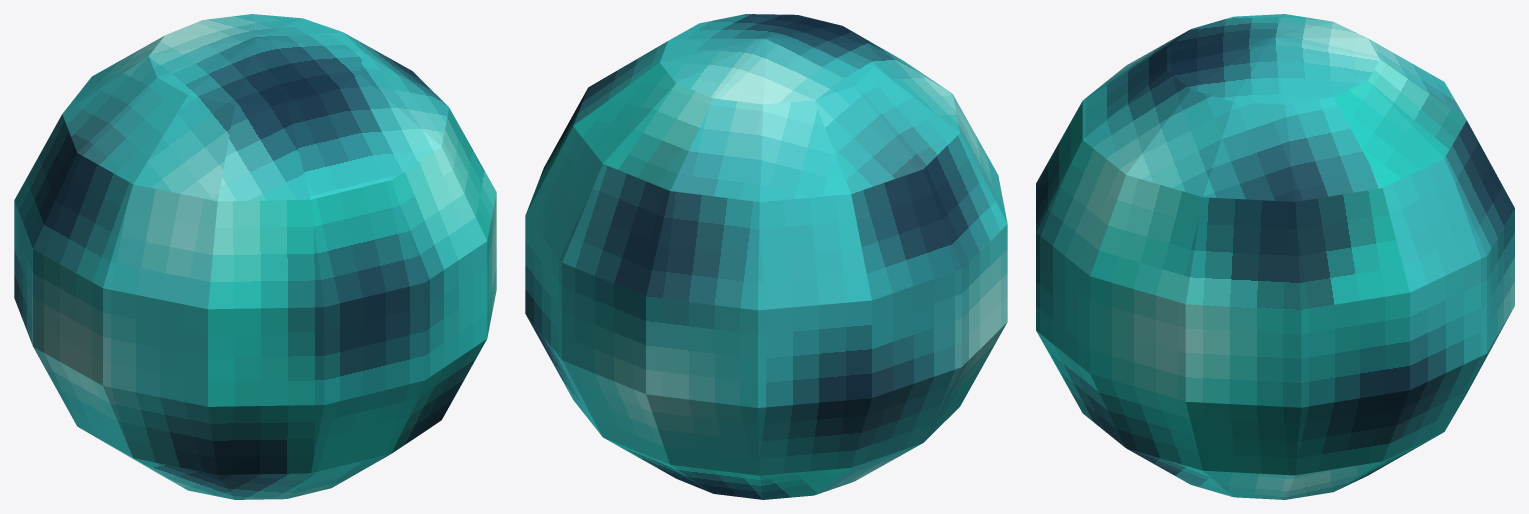
Rendered from asteroid3.fbx.
3 views of the same model, side by side, from view 1: azimuth 30°, elevation 25°; view 2: azimuth 150°, elevation 25°; view 3: azimuth 270°, elevation 25° (orthographic).
Visible parts, largest first — view 1: sphere; view 2: sphere; view 3: sphere.
Boxes of the visible parts, left/top/right/bottom form: sphere: left=14, top=14, right=496, bottom=499; sphere: left=525, top=14, right=1007, bottom=499; sphere: left=1036, top=14, right=1514, bottom=499.
Bounding box in the file's own units: 112 × 112 × 111.
Materials: 1 (1 with a texture image).
